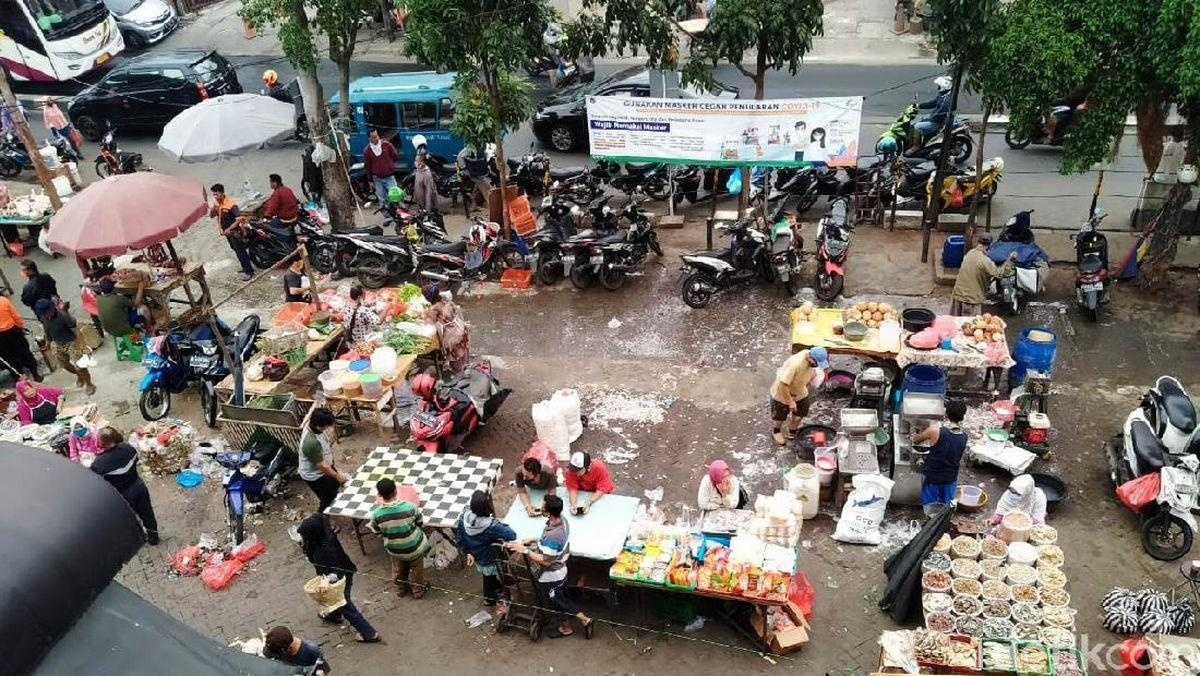Emperan: (606, 497, 816, 649), (216, 294, 444, 419), (912, 527, 1080, 673), (786, 301, 1014, 379)
Payung: (42, 172, 216, 264), (156, 91, 300, 166)
